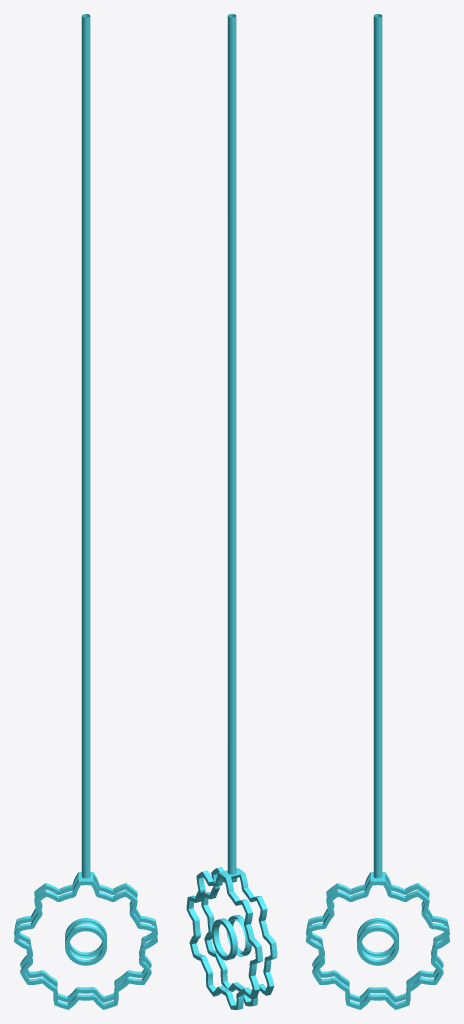
Rendered from cutter7_gear.fbx.
3 renders of one model, left to right at view 1: azimuth 90°, elevation 25°; view 2: azimuth 210°, elevation 25°; view 3: azimuth 270°, elevation 25°, orthographic.
Visible parts, largest first — view 1: Cutter7_Gear; view 2: Cutter7_Gear; view 3: Cutter7_Gear.
Boxes of the visible parts, <box> form: Cutter7_Gear: <box>14,14,157,1009</box>; Cutter7_Gear: <box>186,14,277,1009</box>; Cutter7_Gear: <box>306,14,449,1009</box>.
Bounding box in the file's own units: 16.87 × 814 × 107.
